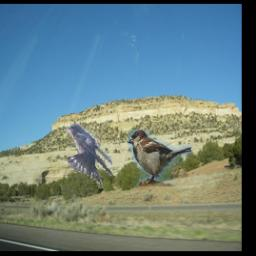Sparrow: (128, 130, 192, 187)
Swallow: (65, 125, 112, 187)
